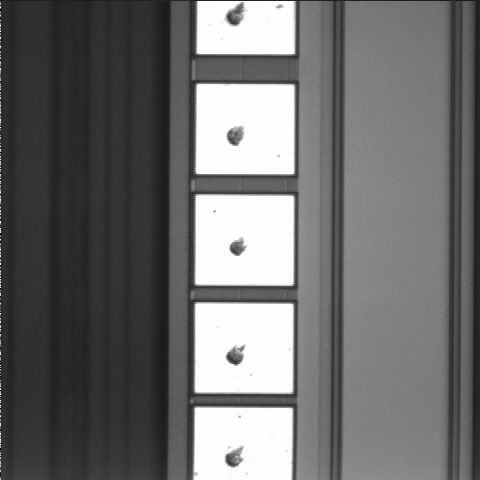pad: (195, 195, 294, 286), (196, 84, 294, 174), (195, 303, 293, 393)
